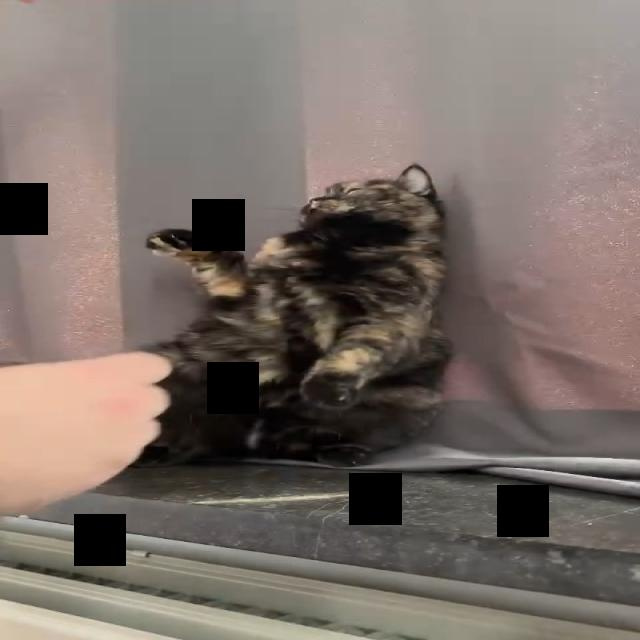authorized: (134, 162, 454, 468)
